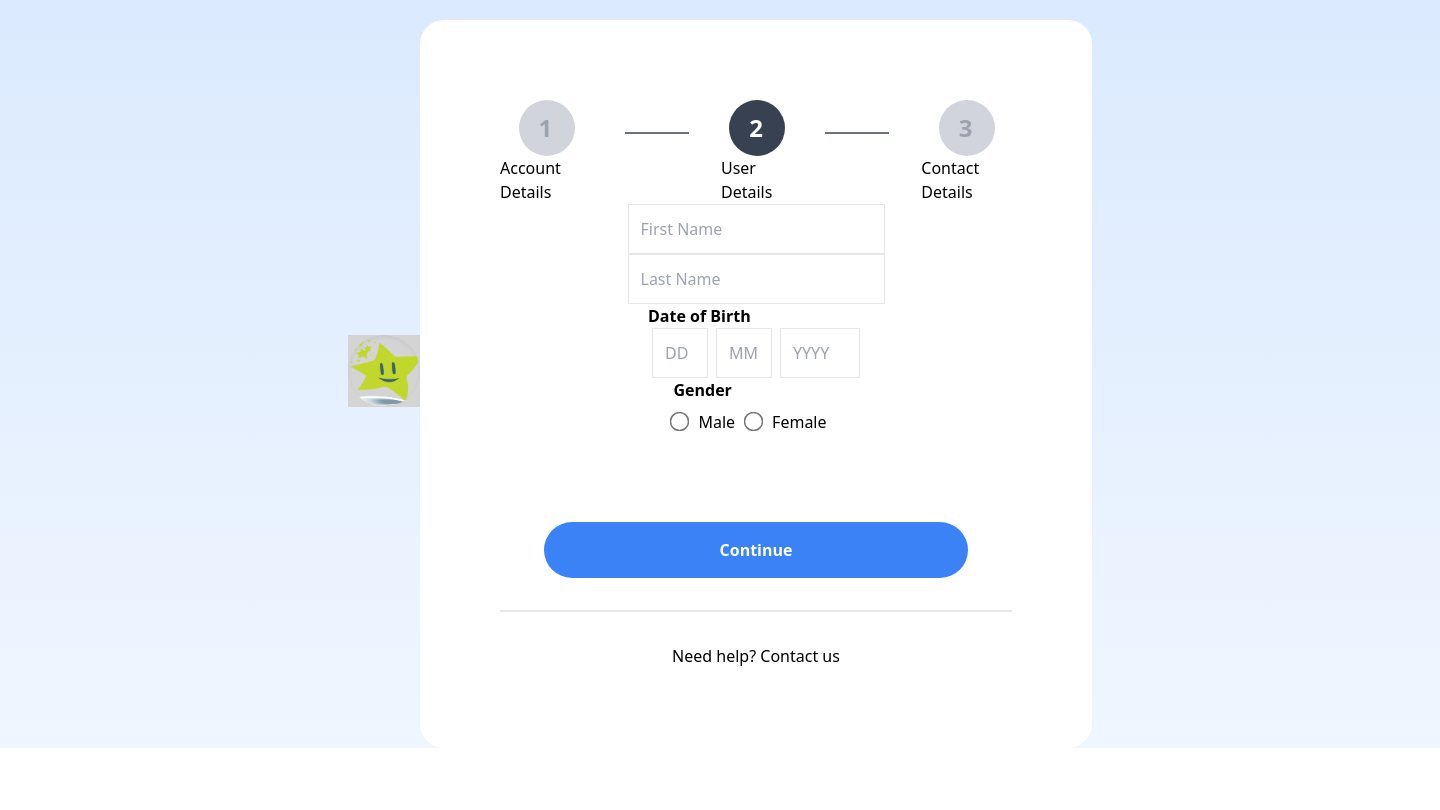
UserDetails › validations › first/last name › first name should be only letters, spaces, apostrophes, dashes and between 2 - 30, value: no
Type "no" into the field with placeholder "First Name". click: (756, 229)
box: [628,204,884,254]
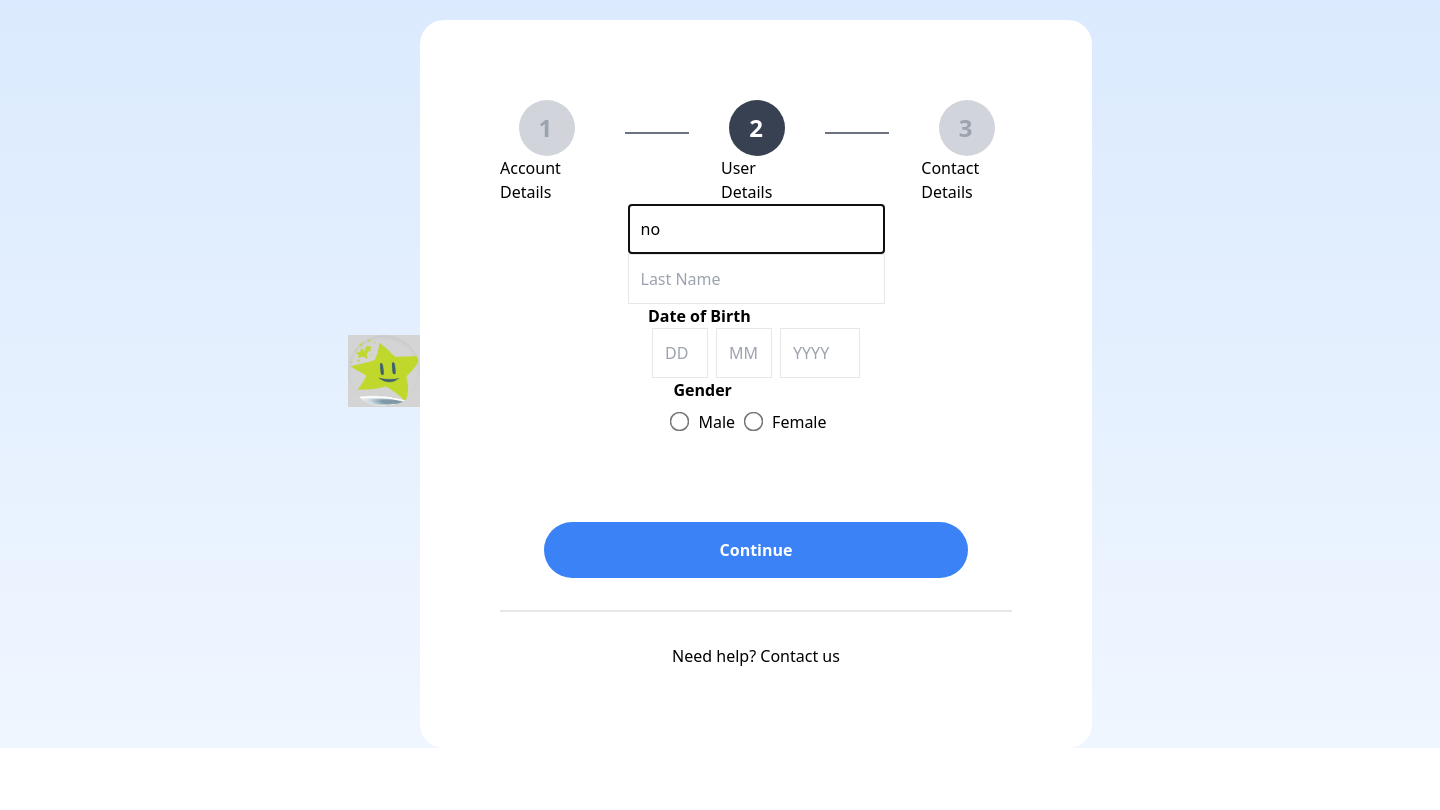
Press Tab
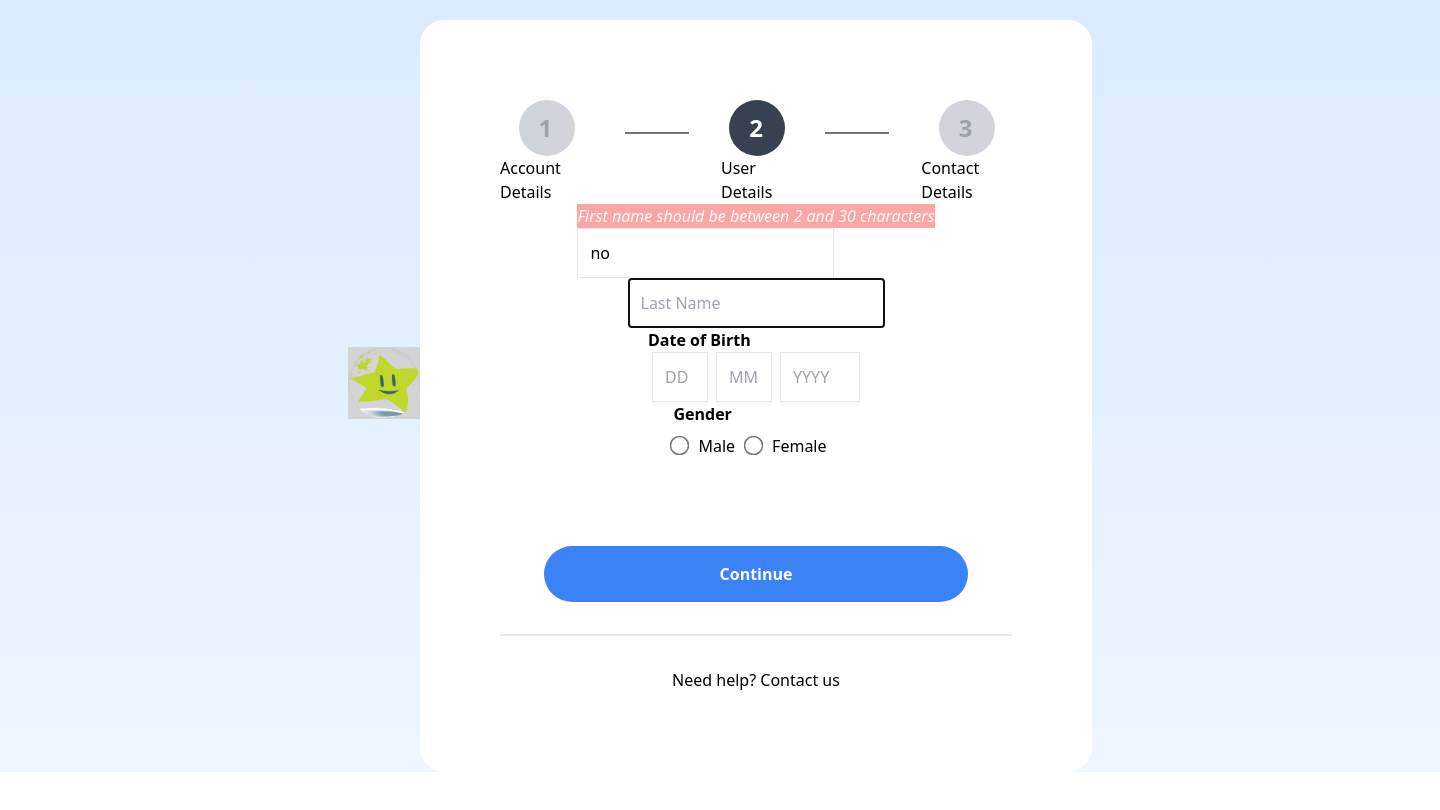
Check: the text "First name should be between 2 and 30 characters" is shown, box [578,205,934,227]
